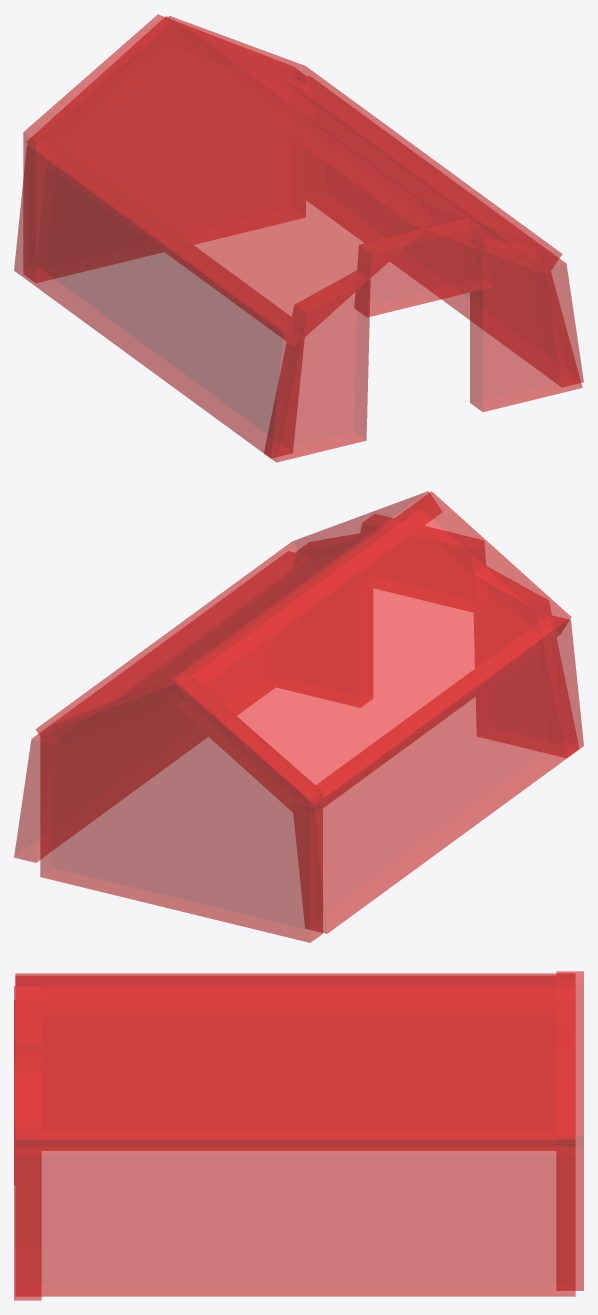
Rendered from SM_Bld_Tent_01_C_Collision.fbx.
3 renders of one model, top to bottom at view 1: azimuth 30°, elevation 25°; view 2: azimuth 150°, elevation 25°; view 3: azimuth 270°, elevation 25°, orthographic. The views are drawn at different scales.
Visible parts, largest first — view 1: SM_Bld_Tent_01_C_Collision; view 2: SM_Bld_Tent_01_C_Collision; view 3: SM_Bld_Tent_01_C_Collision.
Boxes of the visible parts, x1,y1,x2,y2 form: SM_Bld_Tent_01_C_Collision: [14, 14, 583, 462]; SM_Bld_Tent_01_C_Collision: [14, 491, 583, 942]; SM_Bld_Tent_01_C_Collision: [14, 971, 583, 1300].
Size of the model in its own units: 571 by 396 by 825.
